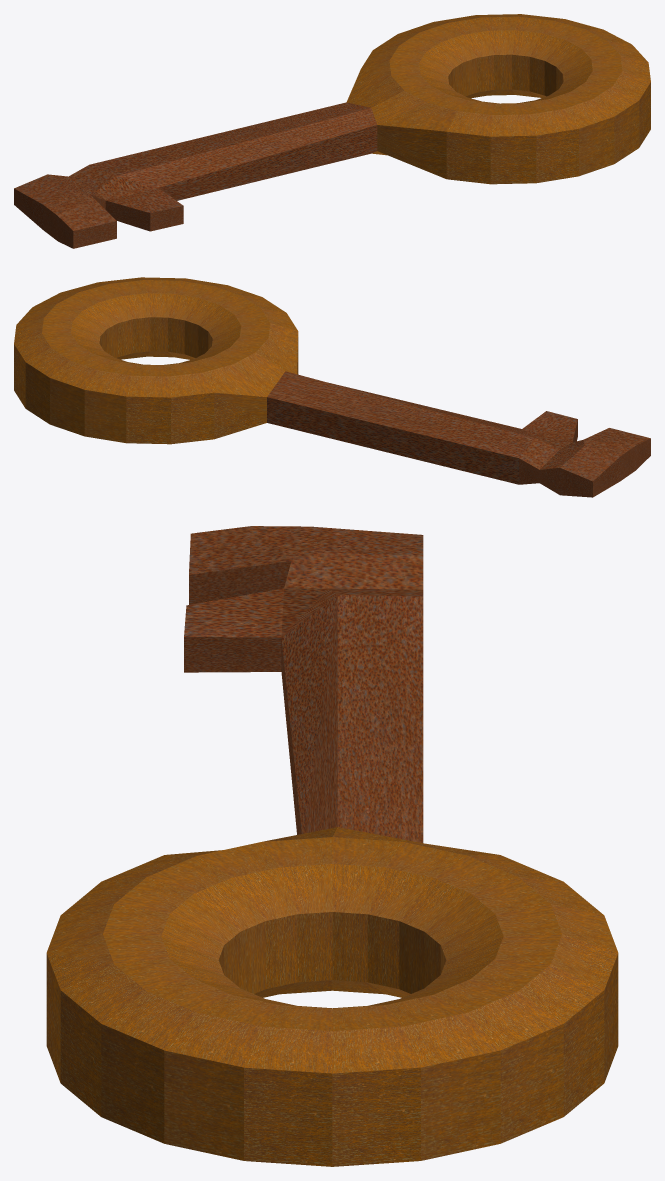
File: key.fbx
3 views of the same model, one above another, from view 1: azimuth 30°, elevation 25°; view 2: azimuth 150°, elevation 25°; view 3: azimuth 270°, elevation 25° (orthographic). The views are drawn at different scales.
Parts seen in each view (by area): view 1: Cylinder; view 2: Cylinder; view 3: Cylinder.
Part boxes in pixels (x1,y1,x2,y2): Cylinder: (14,14,650,248); Cylinder: (14,277,650,497); Cylinder: (46,526,618,1166).
Size of the model in its own units: 2.33 by 0.2494 by 0.9901.
